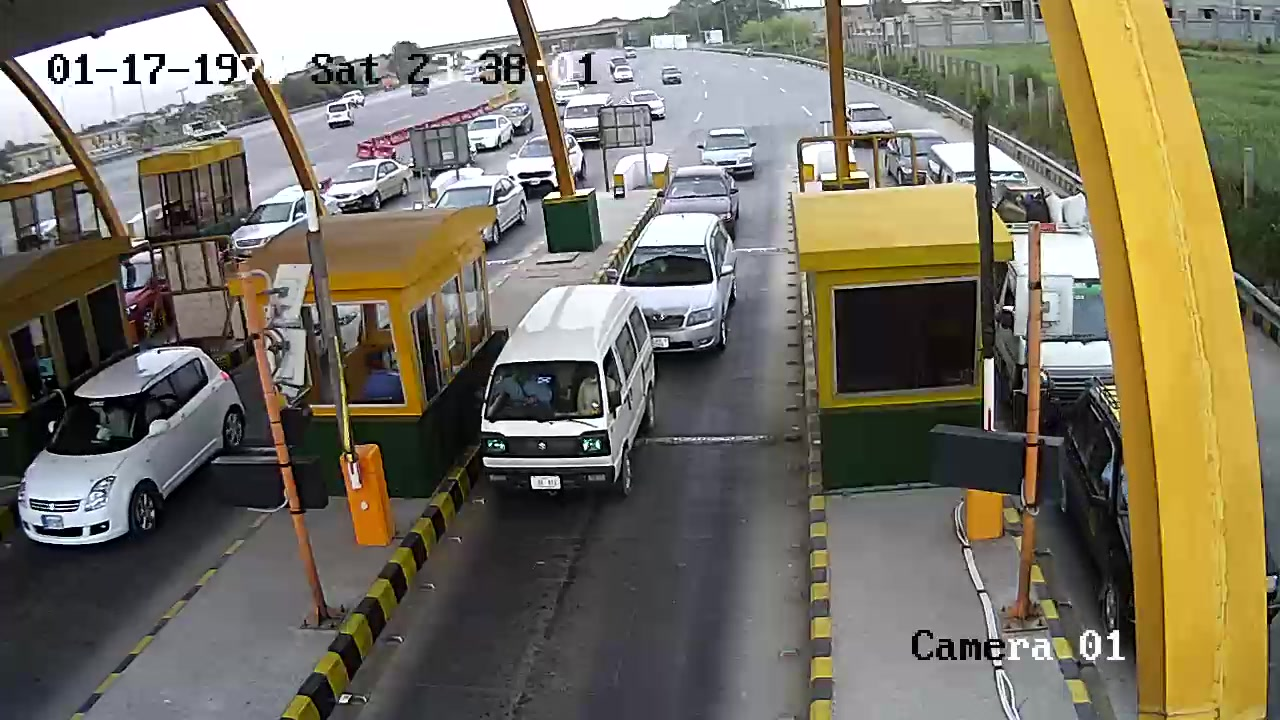F1: (478, 281, 657, 509)
